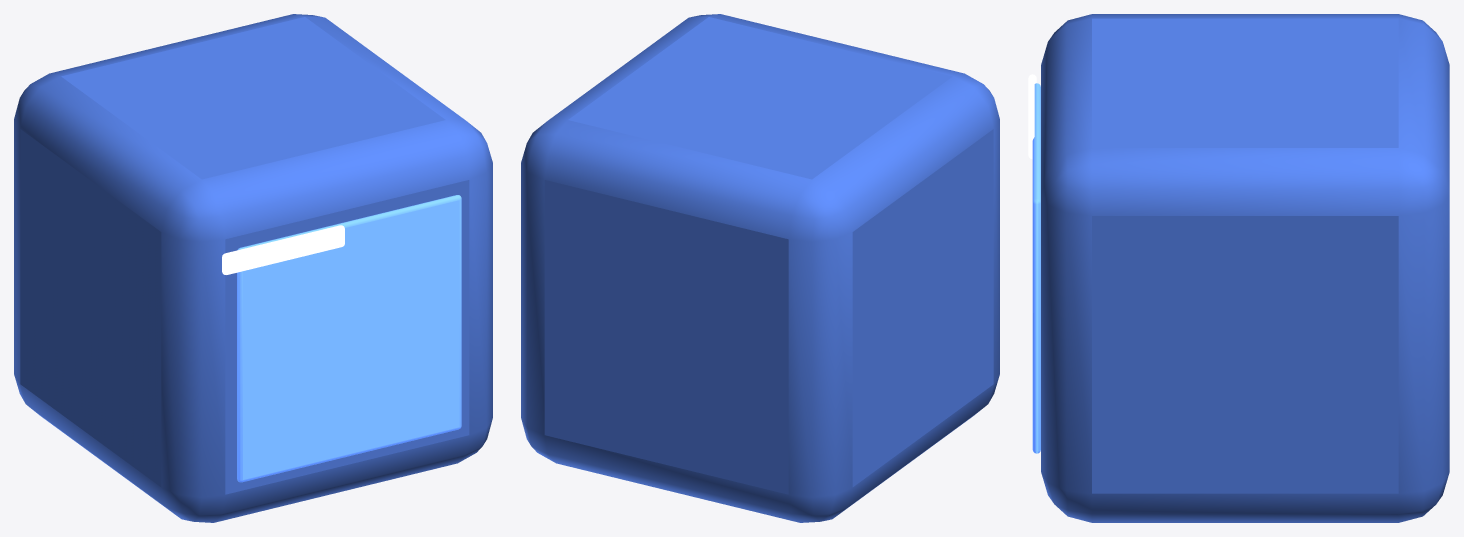
Rendered from kostka_j.glb.
3 renders of one model, left to right at view 1: azimuth 30°, elevation 25°; view 2: azimuth 150°, elevation 25°; view 3: azimuth 270°, elevation 25°, orthographic. The views are drawn at different scales.
Parts seen in each view (by area): view 1: kostka_j_m, kostka_j_lesk, kostka_j_hrana; view 2: kostka_j_m; view 3: kostka_j_m, kostka_j_lesk, kostka_j_hrana.
Part boxes in pixels (<box>): kostka_j_m: <box>14,14,492,522</box>; kostka_j_lesk: <box>237,195,461,482</box>; kostka_j_hrana: <box>222,225,344,274</box>; kostka_j_m: <box>521,14,999,522</box>; kostka_j_m: <box>1041,14,1449,522</box>; kostka_j_lesk: <box>1032,83,1040,453</box>; kostka_j_hrana: <box>1028,74,1036,159</box>.
Size of the model in its own units: 0.96 by 0.96 by 0.99.
